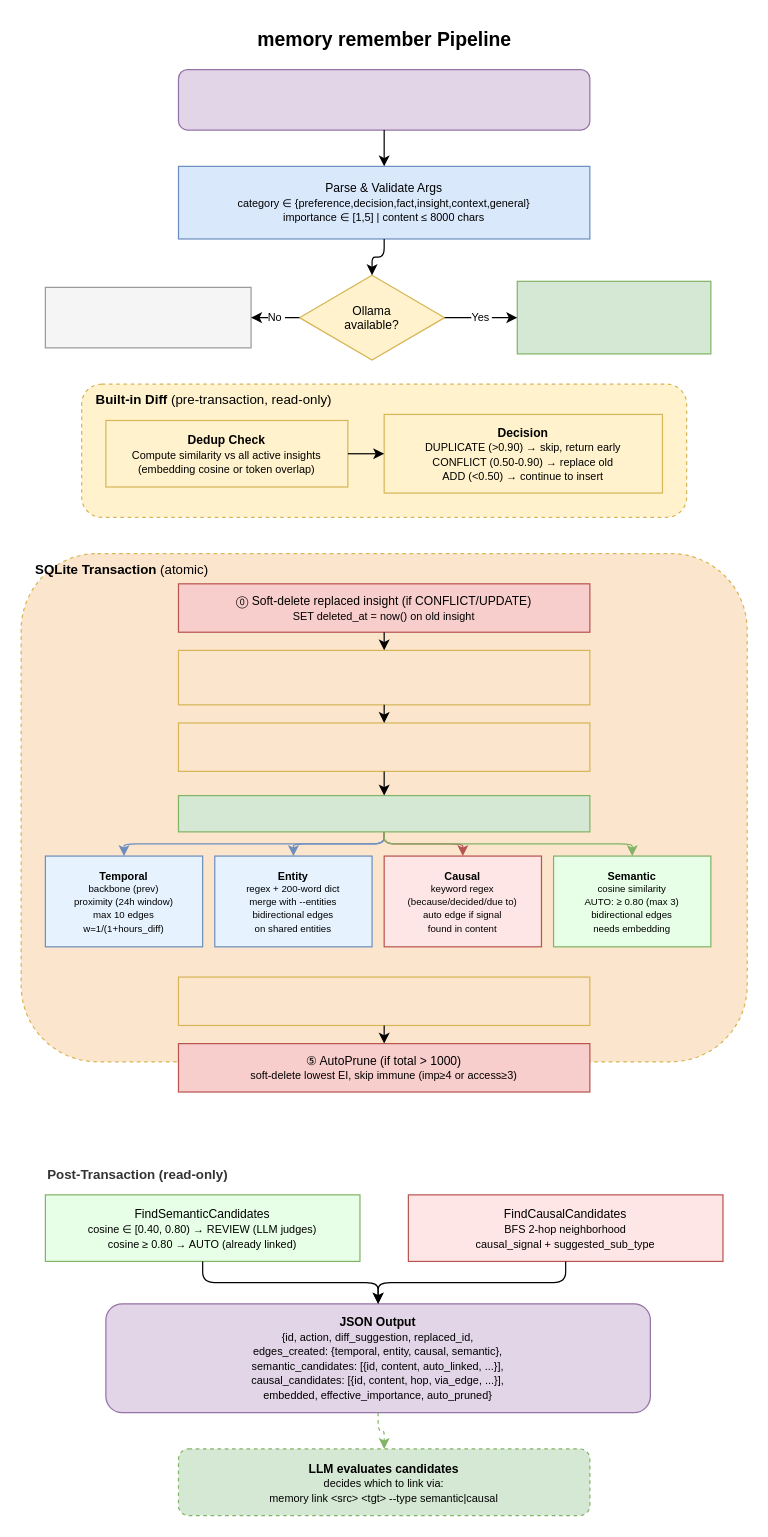
Some shapes in this 768 by 1537 pixel diagram are drawn without their labels. The shapes that lost their labels are listed below. From the top down, each one's centre as x and y in pixels, then its label:
At [383,99]: "memory remember <content> --cat --imp --tags --entities --source".
At [147,317]: "embeddingBlob = nil (fallback to token overlap)".
At [613,317]: "HTTP POST → Ollama nomic-embed-text → 768d float64 vector → SerializeVector()".
At [383,677]: "① InsertInsight id=uuid, content, category, importance, tags, entities, source".
At [383,746]: "② UpdateEmbedding (if blob ≠ nil) insights.embedding = blob (6144 bytes)".
At [383,813]: "③ Graph Engine: OnInsightCreated".
At [383,1000]: "④ RefreshEffectiveImportance EI = base_importance × decay × (1 + edge_bonus)".
